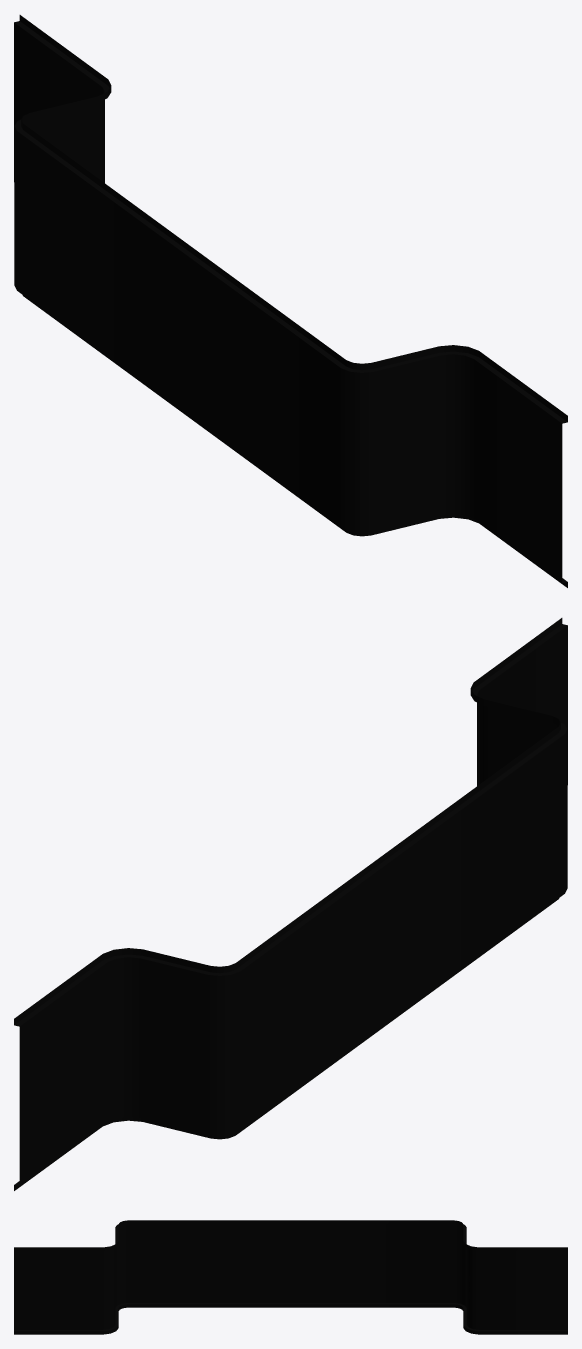
The picture shows the model from 3 angles, top to bottom: view 1: azimuth 30°, elevation 25°; view 2: azimuth 150°, elevation 25°; view 3: azimuth 270°, elevation 25°; orthographic projection. The views are drawn at different scales.
Visible parts, largest first — view 1: Plane; view 2: Plane; view 3: Plane.
Boxes of the visible parts, x1,y1,x2,y2 form: Plane: [14, 15, 567, 587]; Plane: [14, 618, 567, 1190]; Plane: [14, 1220, 567, 1334].
Size of the model in its own units: 2.67 by 3.84 by 22.1.
1 material, 1 textured.
